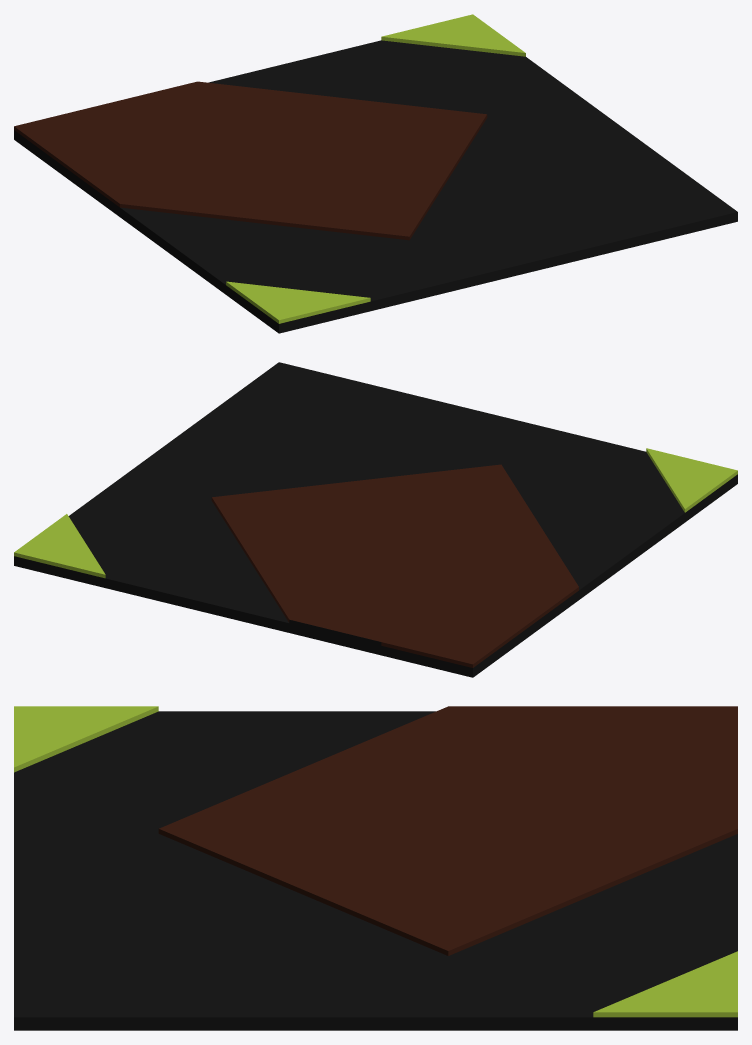
File: Mesh_MtPanorama_Chip_3.FBX
3 views of the same model, one above another, from view 1: azimuth 30°, elevation 25°; view 2: azimuth 150°, elevation 25°; view 3: azimuth 270°, elevation 25° (orthographic). The views are drawn at different scales.
Visible parts, largest first — view 1: Mesh_MtPanorama_Chip_3; view 2: Mesh_MtPanorama_Chip_3; view 3: Mesh_MtPanorama_Chip_3.
Part boxes in pixels (bbox=[...]): Mesh_MtPanorama_Chip_3: bbox=[14, 14, 737, 333]; Mesh_MtPanorama_Chip_3: bbox=[14, 362, 737, 677]; Mesh_MtPanorama_Chip_3: bbox=[14, 706, 737, 1030].
Size of what is drawn, in the model's own units: 880 by 880 by 24.54.
